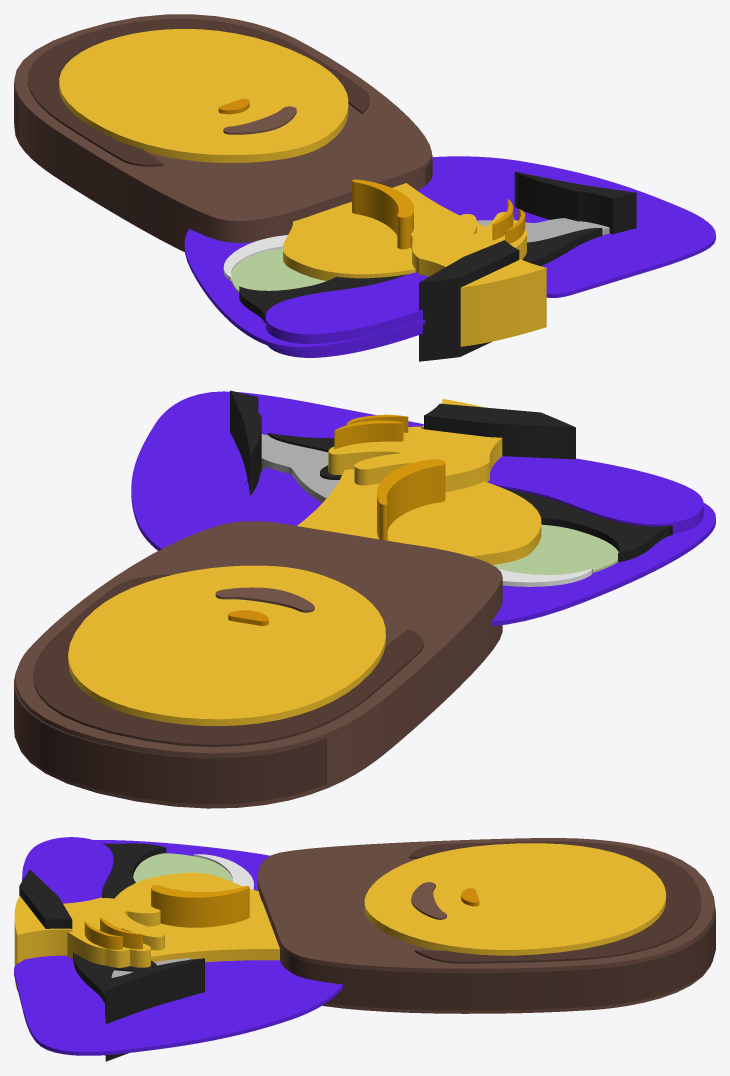
The model's file is emoji_u1f931.glb.
3 views of the same model, one above another, from view 1: azimuth 30°, elevation 25°; view 2: azimuth 150°, elevation 25°; view 3: azimuth 270°, elevation 25° (orthographic). The views are drawn at different scales.
Visible parts, largest first — view 1: emoji_u1f931; view 2: emoji_u1f931; view 3: emoji_u1f931.
Part boxes in pixels (x1=…): emoji_u1f931: x1=14, y1=14, x2=715, y2=361; emoji_u1f931: x1=14, y1=390, x2=715, y2=808; emoji_u1f931: x1=14, y1=837, x2=715, y2=1061.
Bounding box in the file's own units: 0.0242 × 0.0046 × 0.0339.
